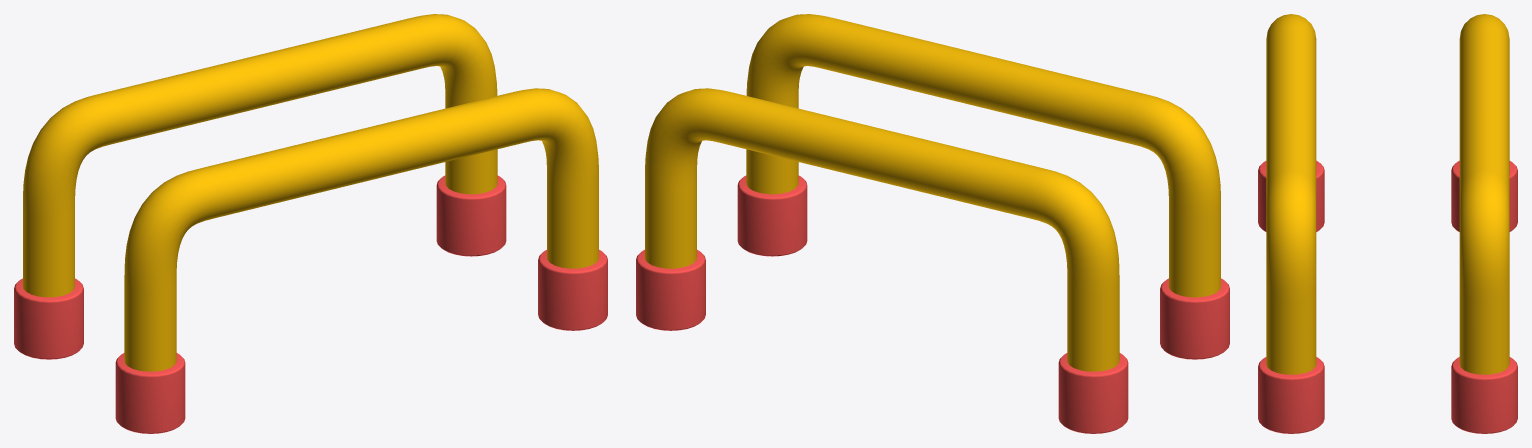
Rendered from City_18_Bars_1.glb.
The picture shows the model from 3 angles, left to right: view 1: azimuth 30°, elevation 25°; view 2: azimuth 150°, elevation 25°; view 3: azimuth 270°, elevation 25°; orthographic projection. The views are drawn at different scales.
Visible parts, largest first — view 1: City_18_Bars_1; view 2: City_18_Bars_1; view 3: City_18_Bars_1.
Boxes of the visible parts, x1=… form: City_18_Bars_1: x1=14, y1=14, x2=607, y2=433; City_18_Bars_1: x1=636, y1=14, x2=1229, y2=433; City_18_Bars_1: x1=1258, y1=14, x2=1517, y2=433.
Bounding box in the file's own units: 1.54 × 0.7205 × 0.7532.
Materials: 1 (1 with a texture image).
